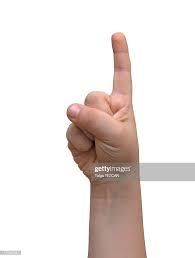Pointing-Up: (60, 31, 149, 221)
